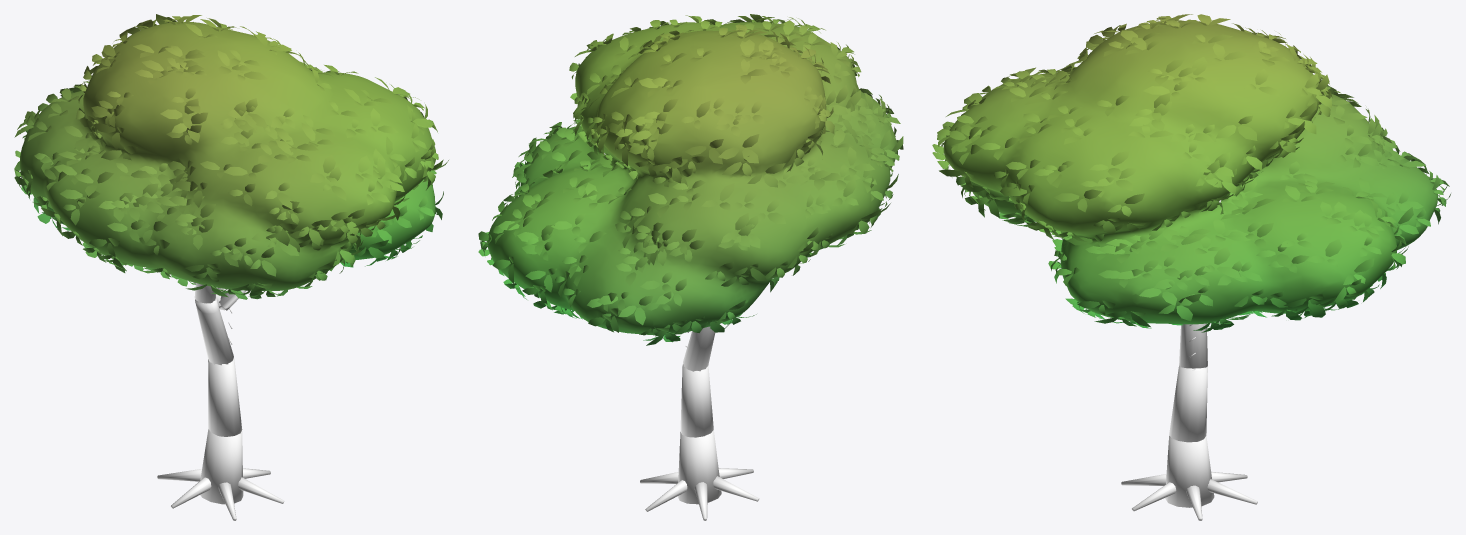
File: beech_canopy_4.glb
The picture shows the model from 3 angles, left to right: view 1: azimuth 30°, elevation 25°; view 2: azimuth 150°, elevation 25°; view 3: azimuth 270°, elevation 25°; orthographic projection.
Visible parts, largest first — view 1: beech_canopy_4_Leaves, beech_canopy_4_Bark, beech_canopy_4_UpperBranches; view 2: beech_canopy_4_Leaves, beech_canopy_4_Bark; view 3: beech_canopy_4_Leaves, beech_canopy_4_Bark.
Boxes of the visible parts, bbox=[...] form: beech_canopy_4_Leaves: bbox=[14, 14, 448, 299]; beech_canopy_4_Bark: bbox=[157, 305, 284, 520]; beech_canopy_4_UpperBranches: bbox=[193, 282, 246, 313]; beech_canopy_4_Leaves: bbox=[478, 14, 903, 345]; beech_canopy_4_Bark: bbox=[640, 326, 759, 520]; beech_canopy_4_Leaves: bbox=[932, 14, 1450, 332]; beech_canopy_4_Bark: bbox=[1121, 323, 1257, 520].
Size of the model in its own units: 8.41 by 10.05 by 10.36.
